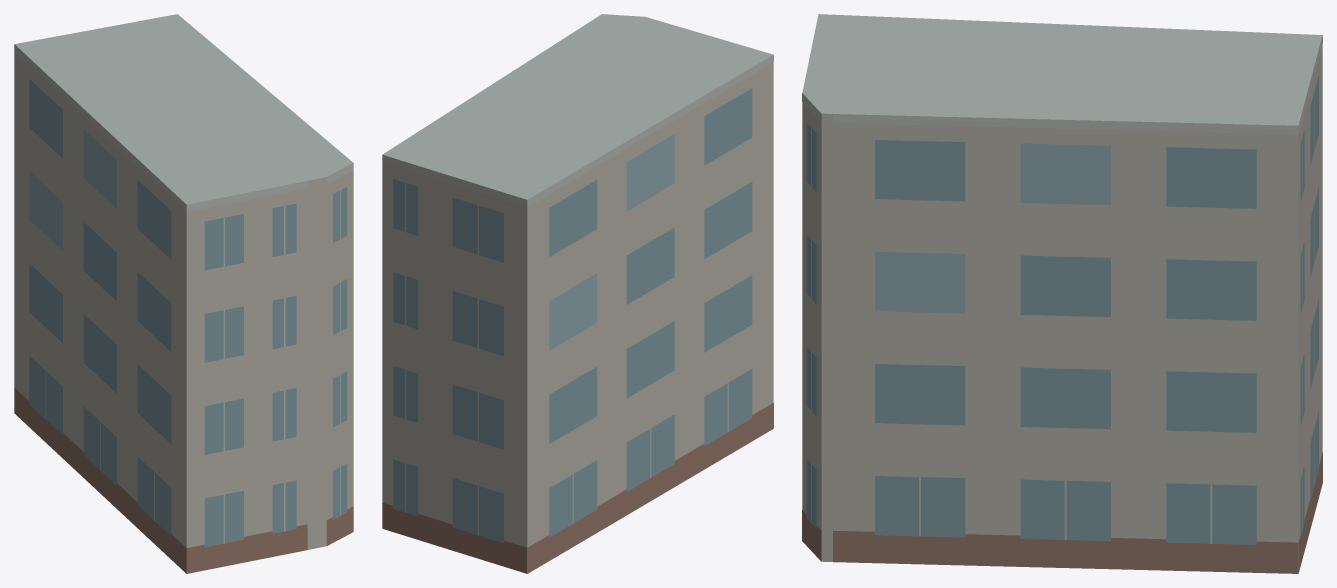
The model's file is survey-upis-32514347.glb.
3 renders of one model, left to right at view 1: azimuth 30°, elevation 25°; view 2: azimuth 150°, elevation 25°; view 3: azimuth 270°, elevation 25°, orthographic. The views are drawn at different scales.
Visible parts, largest first — view 1: survey-upis-32514347.tmp; view 2: survey-upis-32514347.tmp; view 3: survey-upis-32514347.tmp.
Part boxes in pixels (bbox=[...]): survey-upis-32514347.tmp: bbox=[14, 14, 353, 573]; survey-upis-32514347.tmp: bbox=[382, 14, 773, 573]; survey-upis-32514347.tmp: bbox=[802, 14, 1322, 573].
Size of the model in its own units: 6.53 by 12.2 by 12.85.
